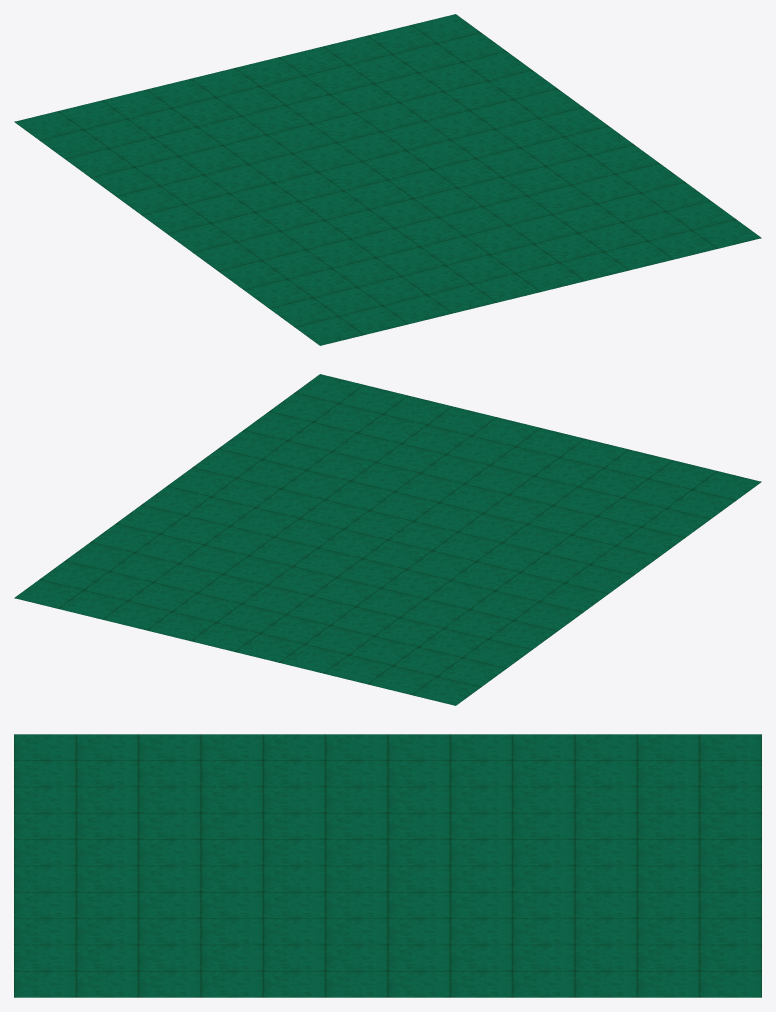
File: Ground.fbx
3 views of the same model, one above another, from view 1: azimuth 30°, elevation 25°; view 2: azimuth 150°, elevation 25°; view 3: azimuth 270°, elevation 25° (orthographic). The views are drawn at different scales.
Parts seen in each view (by area): view 1: Ground; view 2: Ground; view 3: Ground.
Boxes of the visible parts, x1,y1,x2,y2 form: Ground: [14, 14, 761, 345]; Ground: [14, 374, 761, 705]; Ground: [14, 734, 761, 997].
Bounding box in the file's own units: 10000 × 4.77e-05 × 12000.
